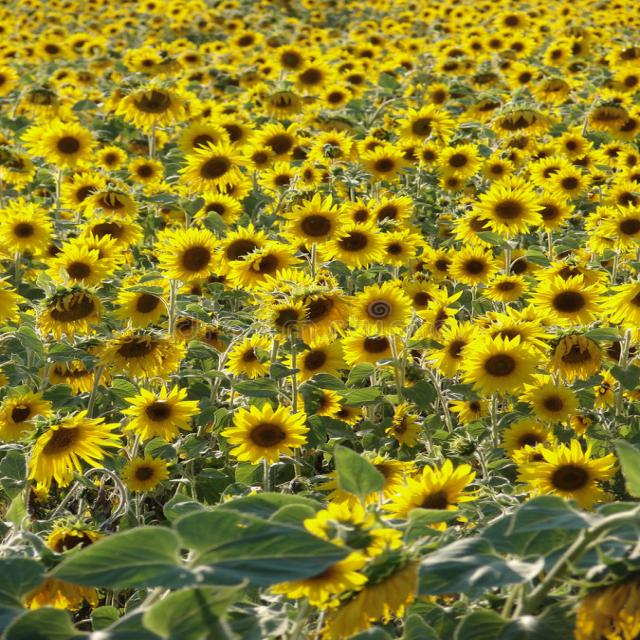sunflower: (375, 461, 502, 532), (19, 406, 111, 486), (531, 436, 620, 514), (148, 223, 244, 293), (212, 400, 317, 460), (452, 328, 539, 397), (273, 198, 360, 261), (40, 240, 120, 306), (466, 179, 554, 238), (25, 281, 107, 341), (177, 138, 256, 196), (101, 330, 182, 383), (395, 291, 474, 344), (128, 390, 206, 440), (348, 283, 415, 339), (116, 82, 204, 124), (214, 334, 288, 382), (545, 274, 609, 327), (586, 196, 640, 258), (281, 338, 349, 387), (41, 123, 107, 171), (0, 207, 60, 256), (582, 92, 640, 140), (486, 106, 562, 141), (288, 282, 337, 335), (241, 120, 298, 164), (455, 251, 522, 287), (358, 146, 419, 182), (398, 104, 443, 141), (271, 40, 312, 76)
